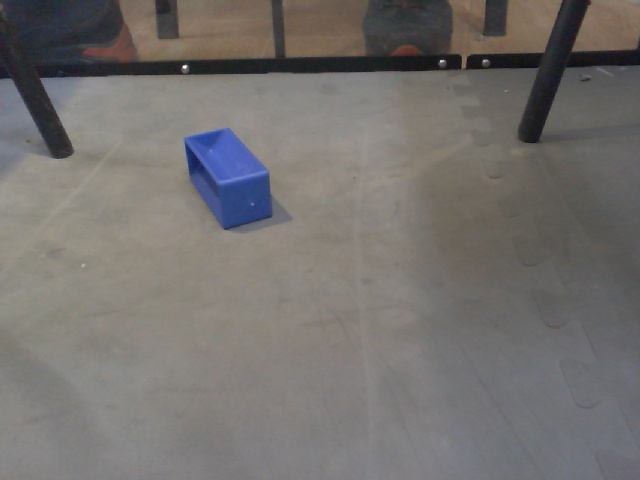BlueSample: (181, 125, 281, 231)
